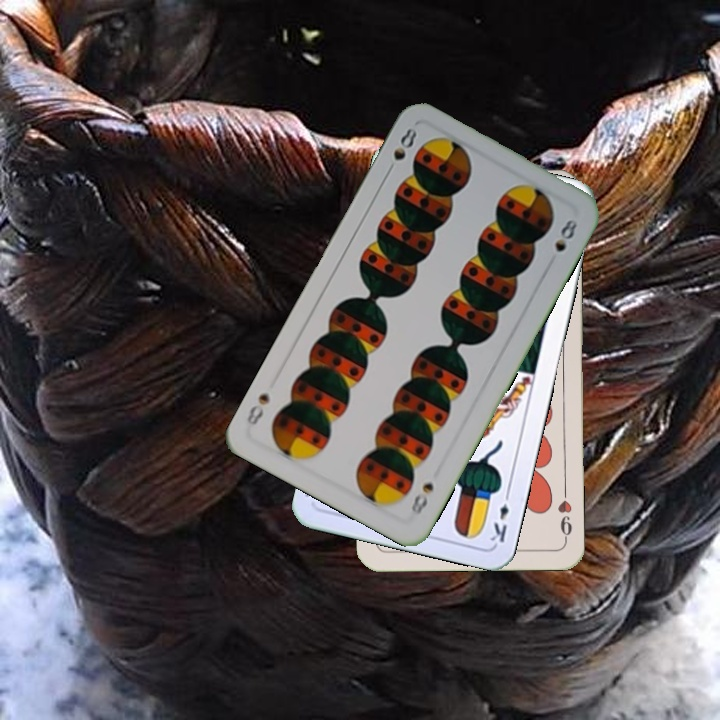EK: (486, 486, 513, 545)
H9: (554, 485, 575, 544)
S8: (382, 124, 420, 178), (405, 478, 437, 519)
